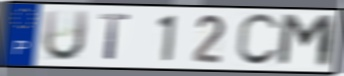1: (155, 14, 182, 63)
2: (190, 13, 227, 65)
C: (234, 12, 283, 68)
M: (274, 12, 338, 70)
T: (97, 12, 132, 62)
U: (40, 9, 91, 64)
